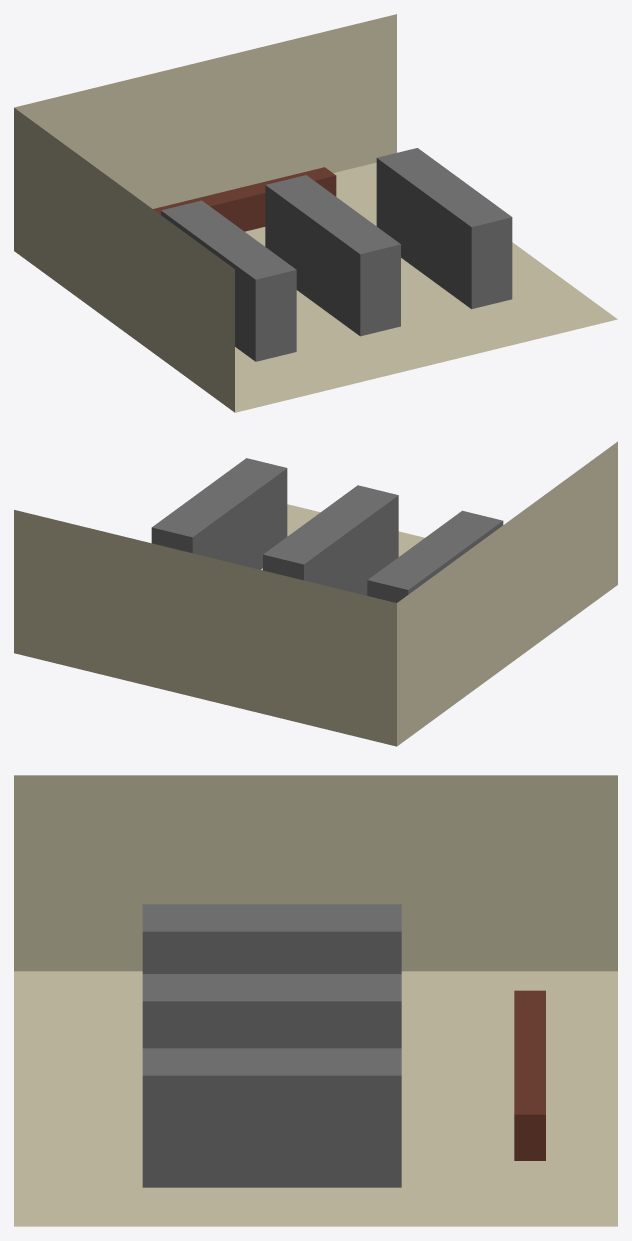
The model's file is Basic Store.fbx.
3 views of the same model, one above another, from view 1: azimuth 30°, elevation 25°; view 2: azimuth 150°, elevation 25°; view 3: azimuth 270°, elevation 25° (orthographic). The views are drawn at different scales.
Visible parts, largest first — view 1: Building, Shelf R, Shelf M, Shelf L, Counter; view 2: Building, Shelf R, Shelf M, Shelf L; view 3: Building, Shelf R, Shelf M, Shelf L, Counter.
Boxes of the visible parts, bbox=[...] form: Building: bbox=[14, 14, 617, 412]; Shelf R: bbox=[376, 148, 512, 309]; Shelf M: bbox=[265, 175, 400, 336]; Shelf L: bbox=[161, 200, 296, 361]; Counter: bbox=[153, 167, 336, 231]; Building: bbox=[14, 441, 617, 746]; Shelf R: bbox=[151, 458, 287, 569]; Shelf M: bbox=[263, 485, 398, 595]; Shelf L: bbox=[367, 510, 503, 602]; Building: bbox=[14, 775, 617, 1226]; Shelf R: bbox=[142, 1048, 401, 1187]; Shelf M: bbox=[142, 974, 401, 1048]; Shelf L: bbox=[142, 904, 401, 973]; Counter: bbox=[514, 990, 545, 1160].
Size of the model in its own units: 1213 by 438 by 1213.
